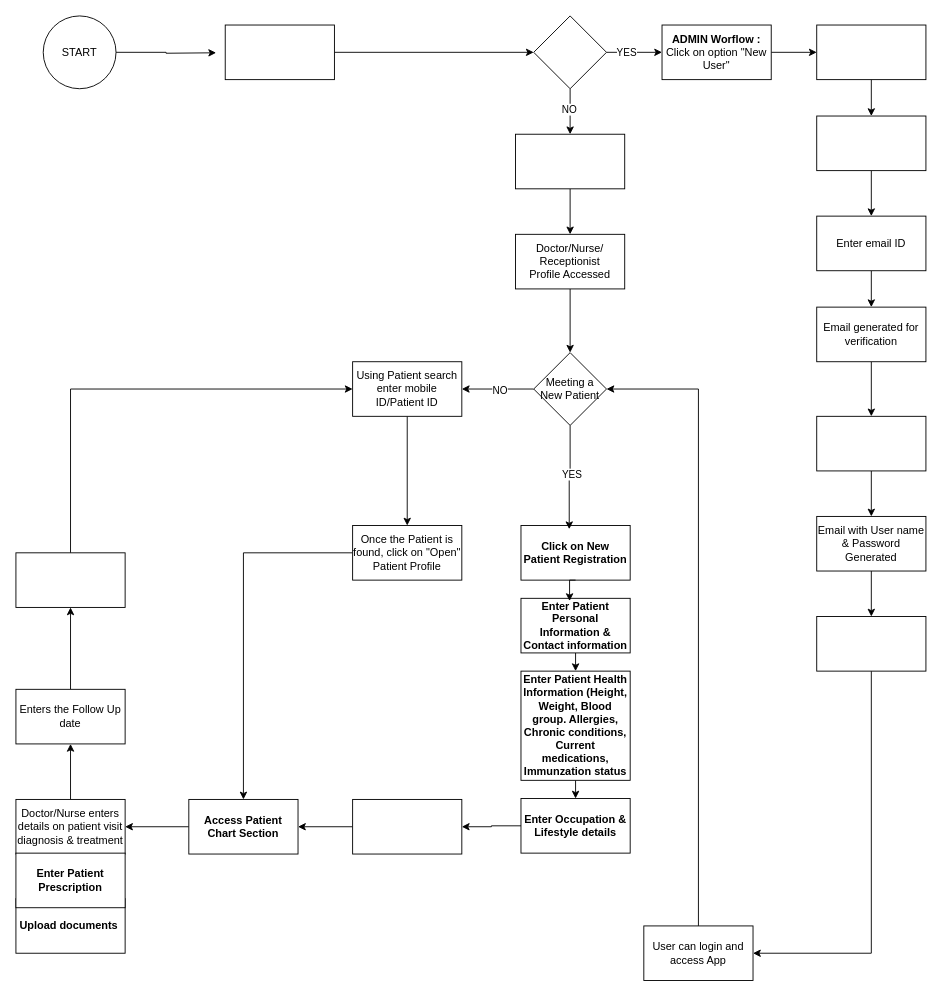
Image size: 942x996. Some labels were removed from this diagram. The centre of each missing label's shape, as x and y in pixels:
Access the Koya app & Login using the generated credentials: point 871,643
Access the Koya.co.in: point 279,52
Are you a New User?: point 570,52
Click link Senf via email for verifying: point 871,443
Click on Create Profile with email: point 871,143
Login with Credentials: point 570,161
Patient Registered Successfully: point 407,826
Patient visits on the follow up date: point 70,579
Select User Type: Doctor, Nurse, Receptionist: point 871,52
